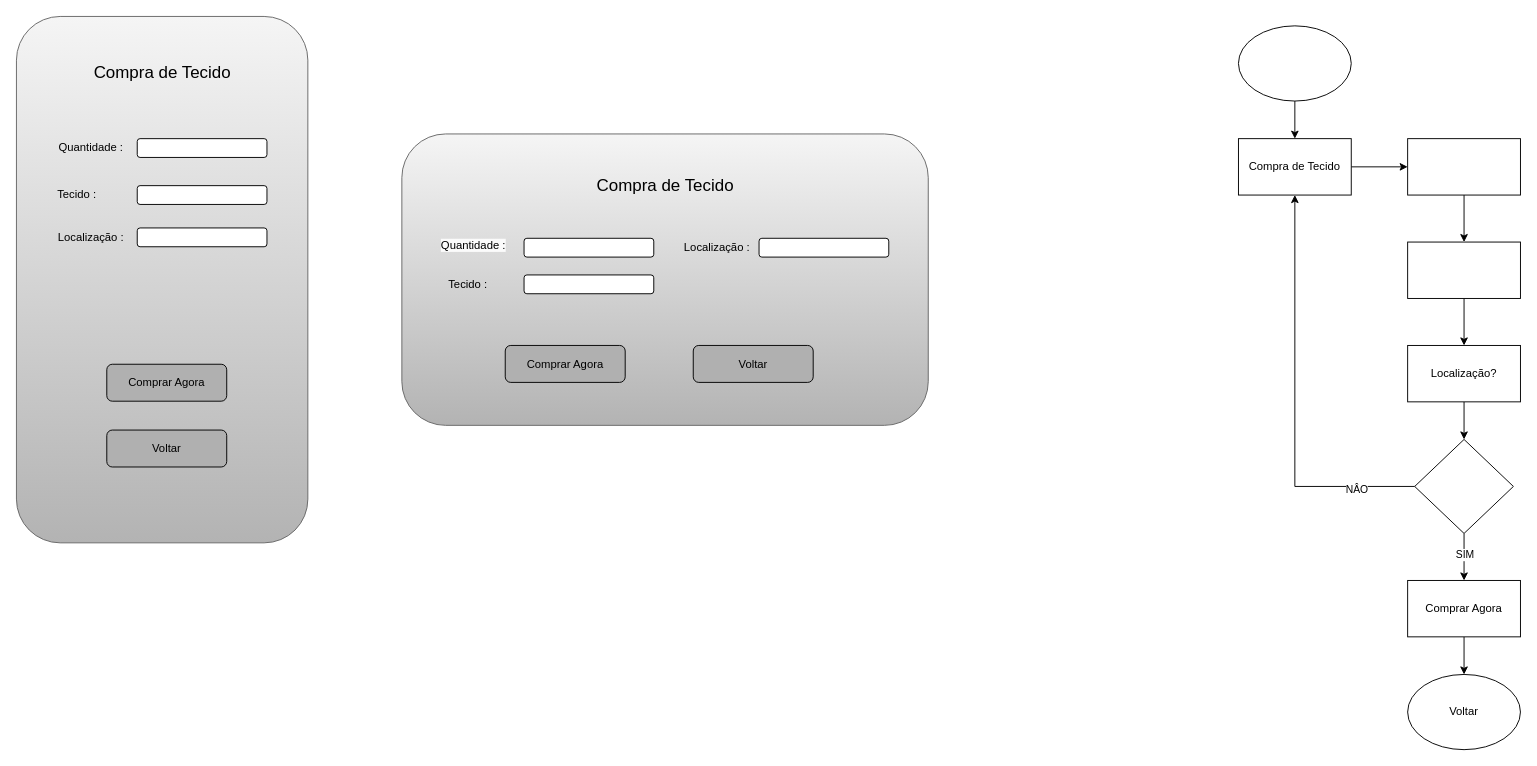
The diagram is 1537 pixels wide and 766 high, and some of its shapes have lost their labels. The centre of each missing label's shape, as x and y in pixels:
"Início" goes at (x=1294, y=63).
"O pedido está Correto?" goes at (x=1463, y=486).
"Quantidade?" goes at (x=1463, y=166).
"Tecido?" goes at (x=1463, y=269).
